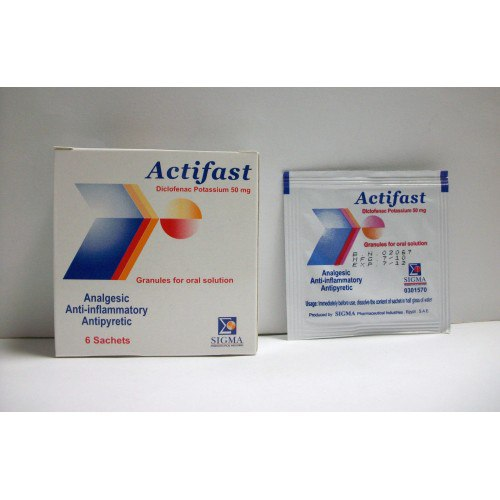Medicine: (49, 140, 263, 366), (283, 164, 459, 336)
